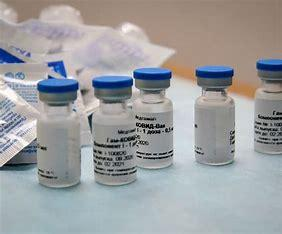Syringe: (30, 78, 84, 191), (88, 72, 140, 188), (189, 60, 241, 168), (138, 63, 179, 174), (249, 51, 282, 158)
